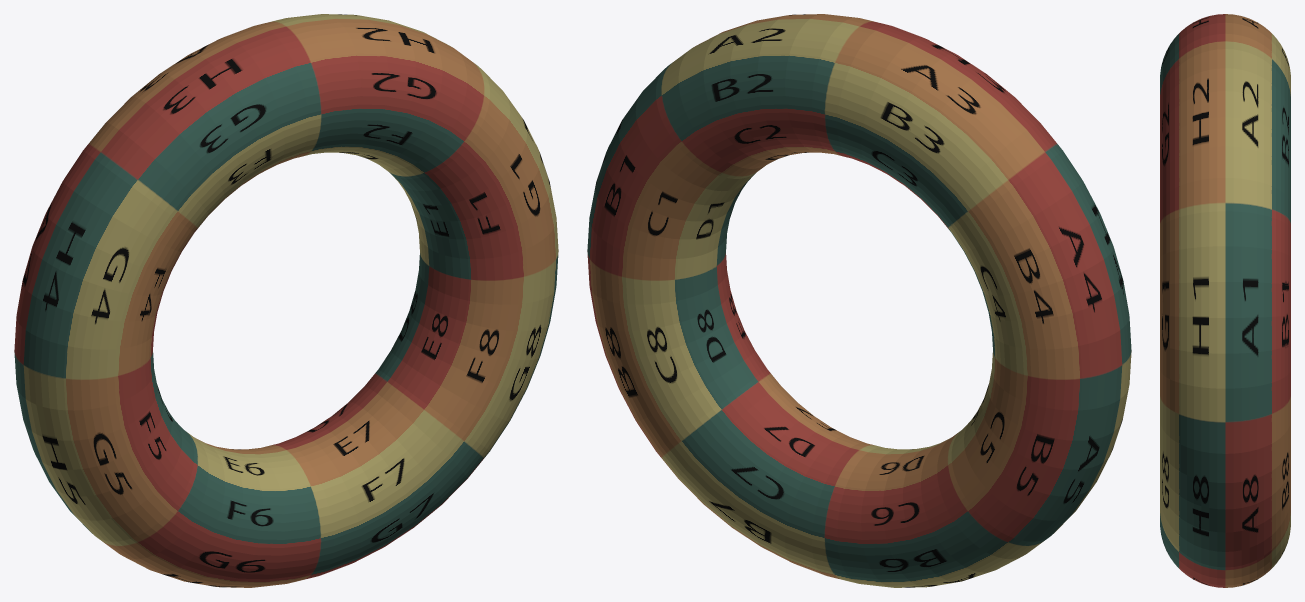
File: texture_torus_R10_r11.glb
3 views of the same model, side by side, from view 1: azimuth 30°, elevation 25°; view 2: azimuth 150°, elevation 25°; view 3: azimuth 270°, elevation 25° (orthographic). The views are drawn at different scales.
Visible parts, largest first — view 1: world; view 2: world; view 3: world.
Boxes of the visible parts, x1,y1,x2,y2 form: world: (14,14,558,587); world: (587,14,1131,587); world: (1160,14,1290,587).
Bounding box in the file's own units: 21.6 × 21.56 × 4.92.
1 material, 1 textured.
